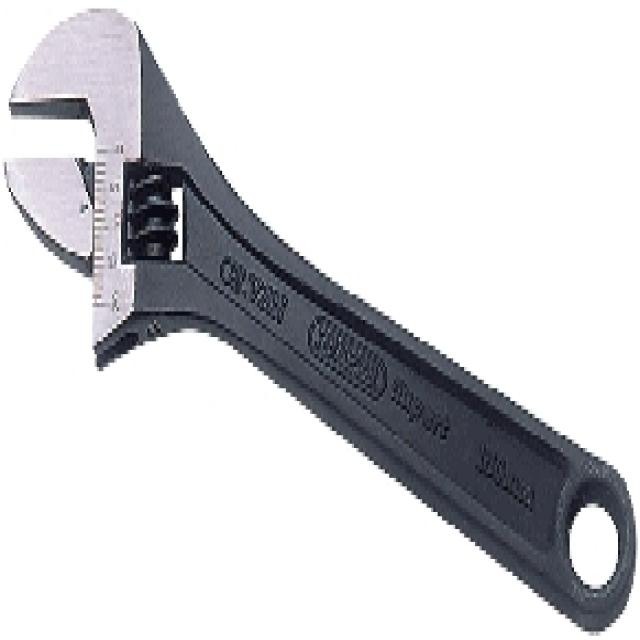wrench: (0, 5, 488, 478)
